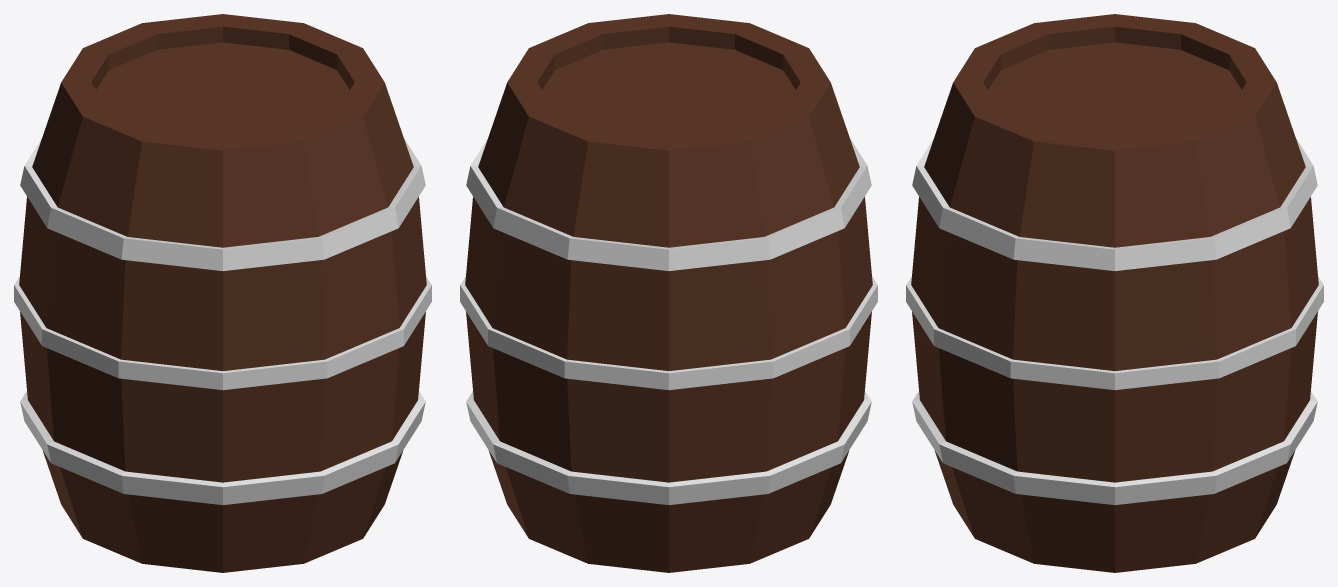
Rendered from Barell1.fbx.
The picture shows the model from 3 angles, left to right: view 1: azimuth 30°, elevation 25°; view 2: azimuth 150°, elevation 25°; view 3: azimuth 270°, elevation 25°; orthographic projection.
Visible parts, largest first — view 1: Barrel; view 2: Barrel; view 3: Barrel.
Boxes of the visible parts, box(x1,y1,x2,y2) form: Barrel: box(14, 14, 431, 572); Barrel: box(460, 14, 877, 572); Barrel: box(906, 14, 1323, 572).
Size of the model in its own units: 70.27 by 78.37 by 70.27.
